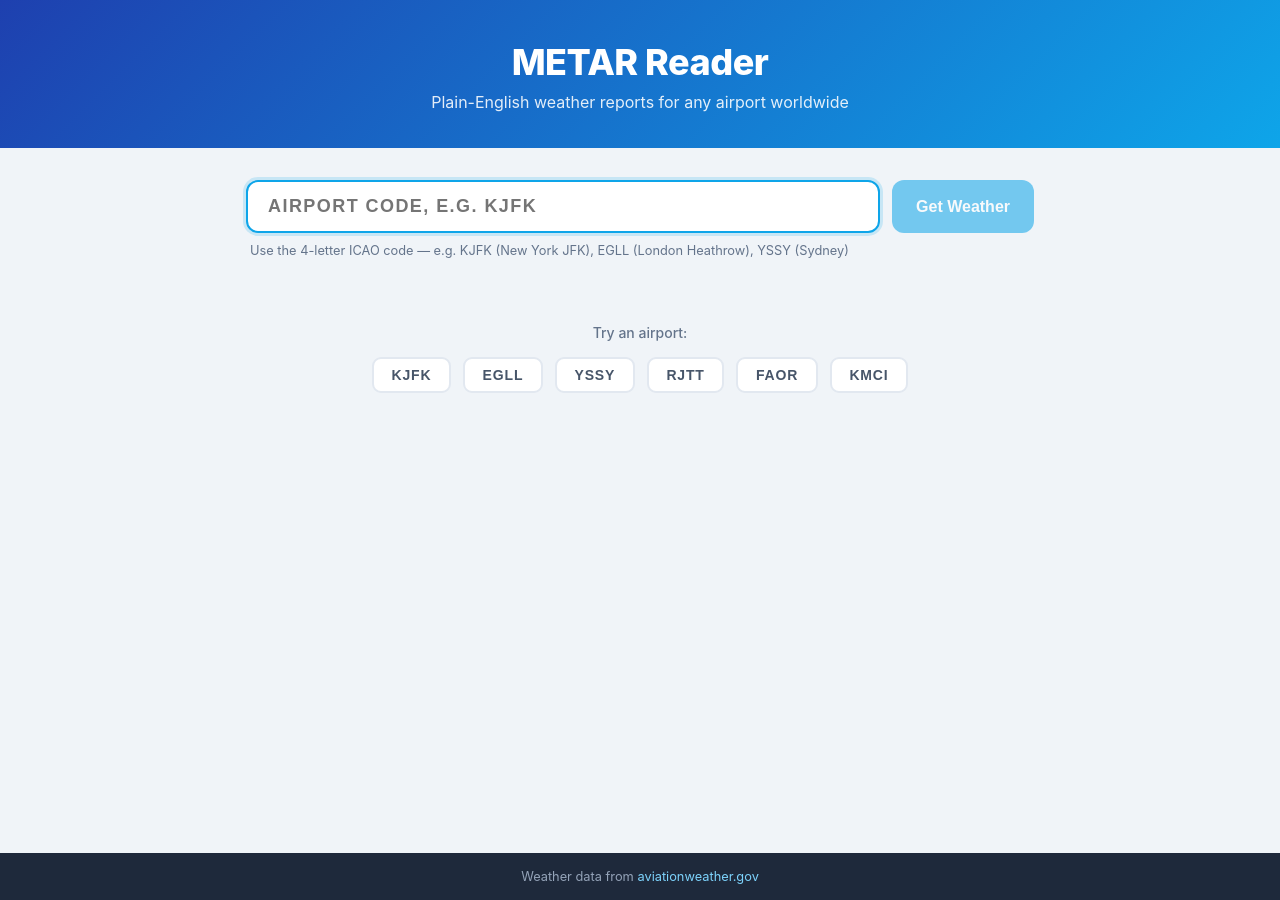
Test: App › displays a generic error on network failure
Type "KJFK" into the field with placeholder "Airport code, e.g. KJFK" at (563, 206), box [246,180,880,233]
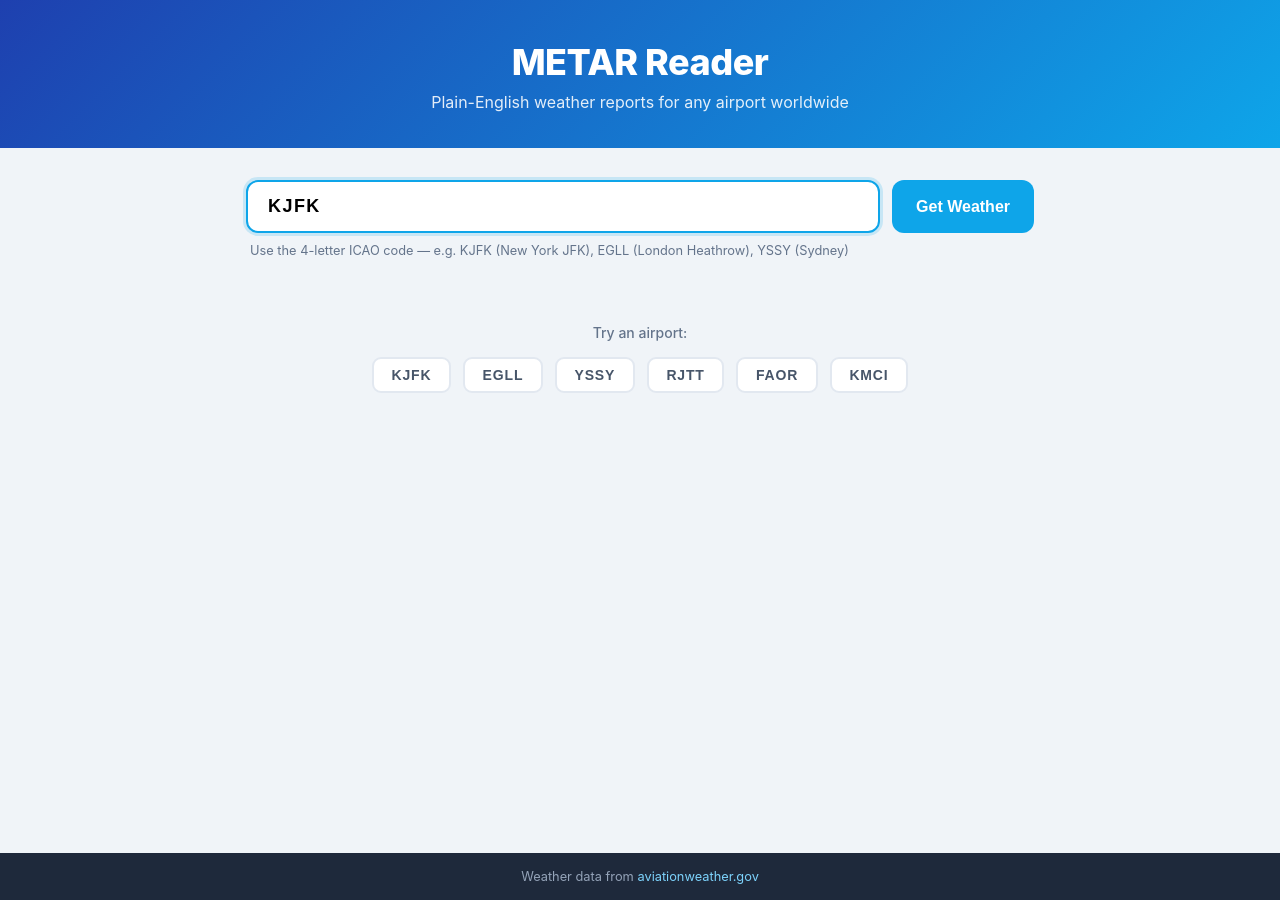
Click the button "Get Weather" at (963, 206), box [892,180,1034,233]
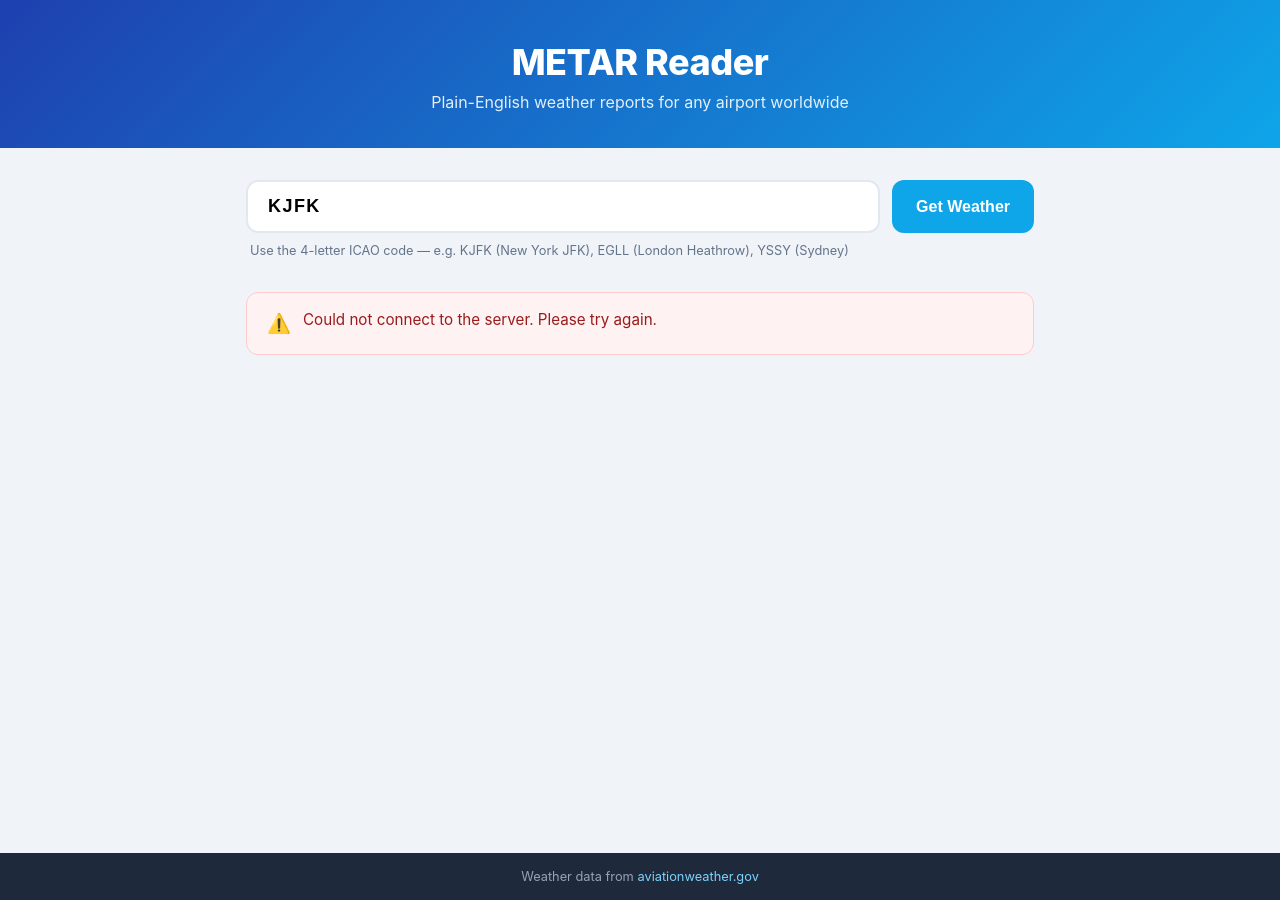
Check: the text "Could not connect to the server. Please try again." is shown, box [303,309,657,332]
